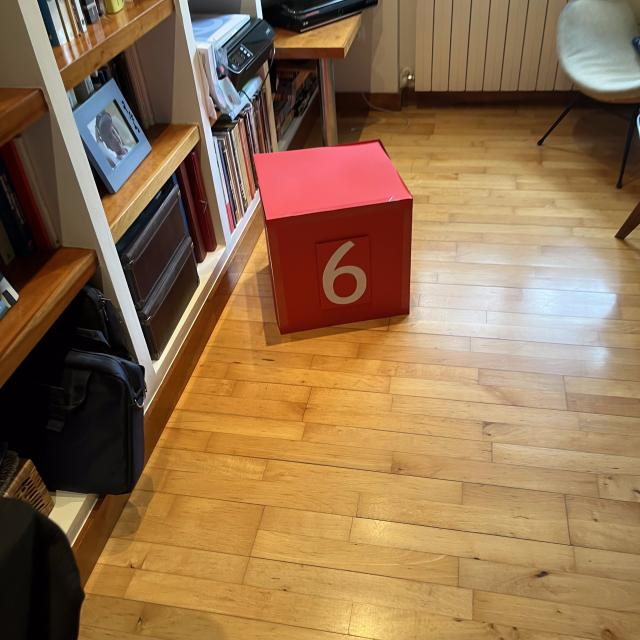box: (250, 136, 415, 336)
